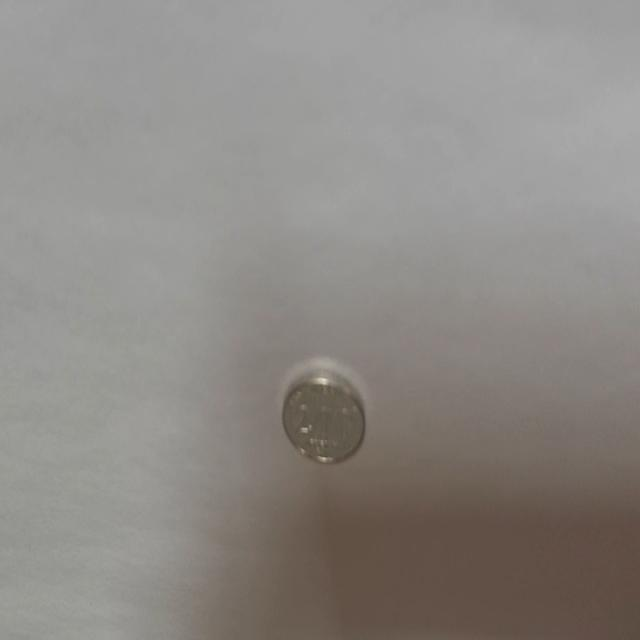dua ratus rupiah: (280, 364, 366, 466)
